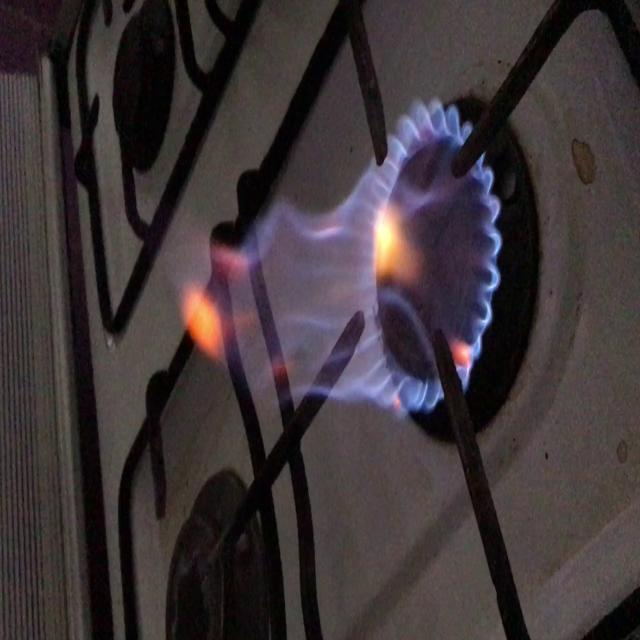fire: (192, 108, 512, 414)
